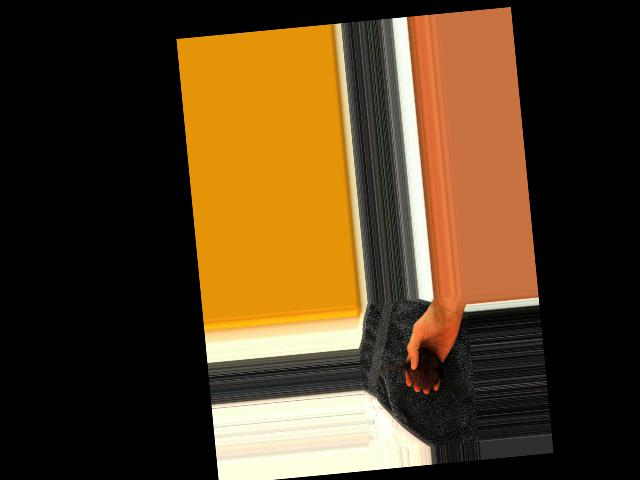beet: (375, 347, 445, 394)
